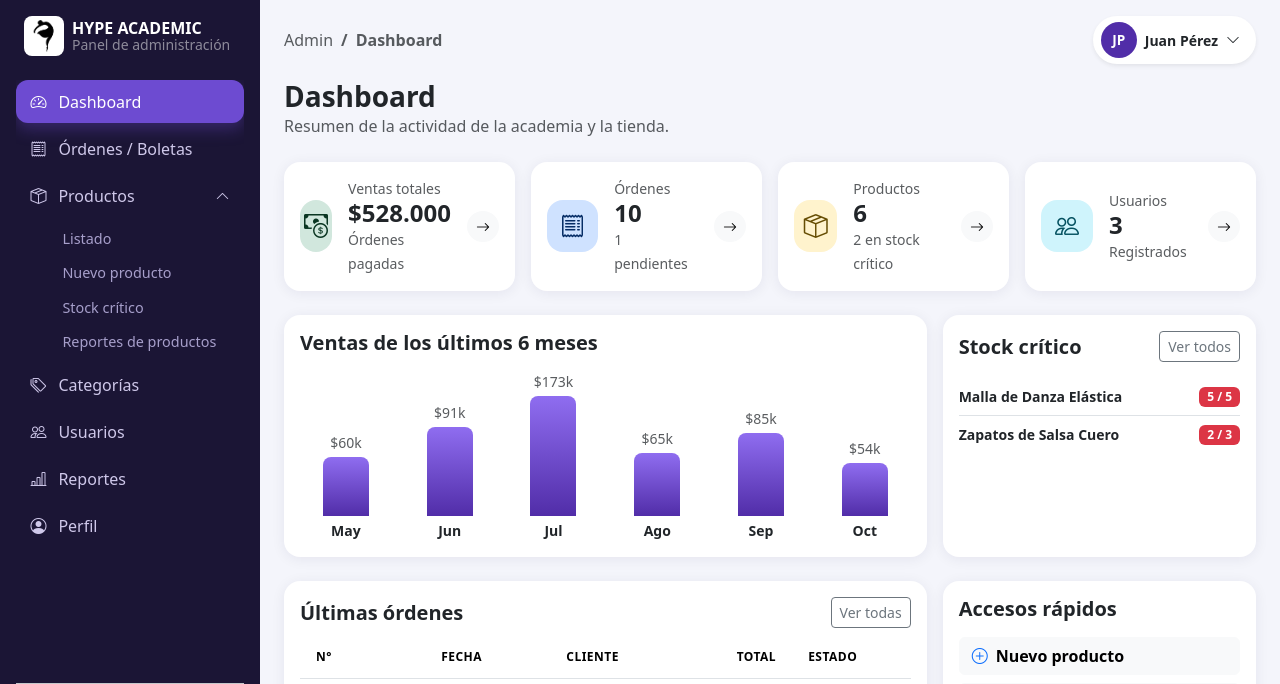
admin/AdminLayout (panel de administración) › abre la boleta de la orden más reciente desde Órdenes / Boletas
Click the button "Órdenes / Boletas".
click(130, 149)  # box 16,127 -> 244,170
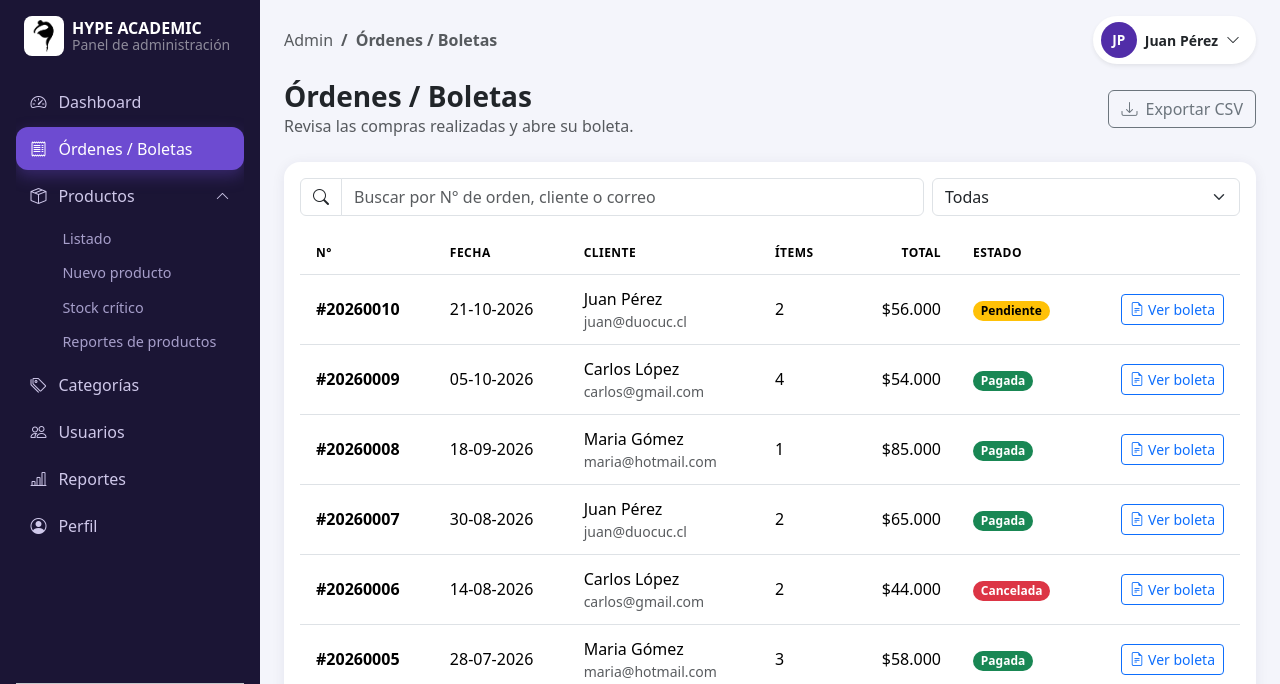
Click the button "Ver boleta" in the row of "20260010".
click(1173, 309)  # box 1121,294 -> 1224,325
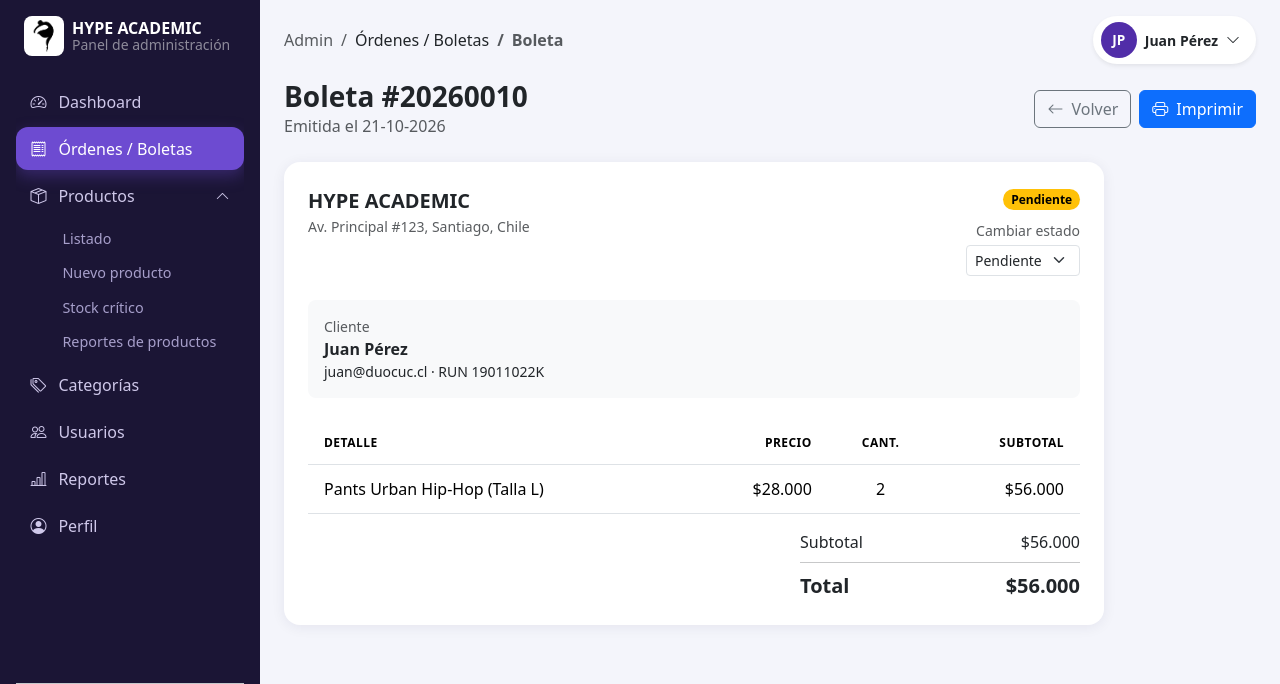
Check: the heading "Boleta #20260010" is shown, box 284,80 -> 528,114
